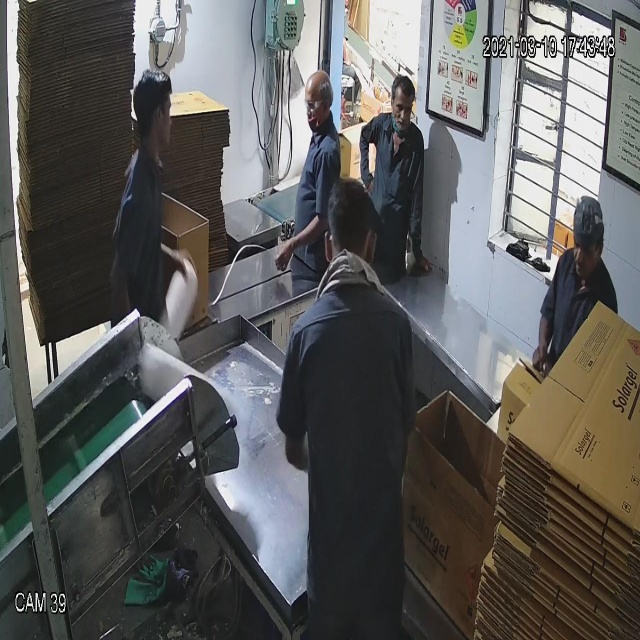Sin_guantes: (261, 207, 336, 282), (406, 167, 442, 295), (531, 285, 556, 383)
